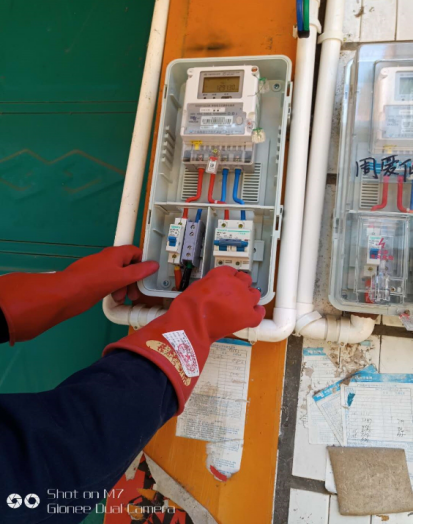longglove: (101, 266, 267, 413), (1, 244, 159, 345)
